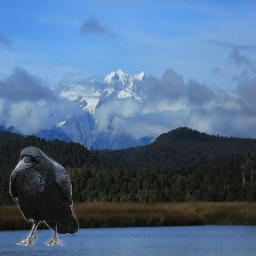Crow: (9, 146, 79, 246)
